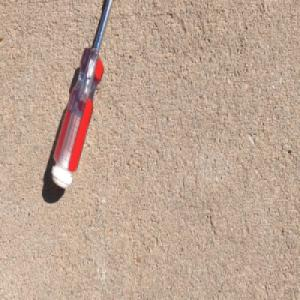Screwdriver: (50, 0, 115, 189)
